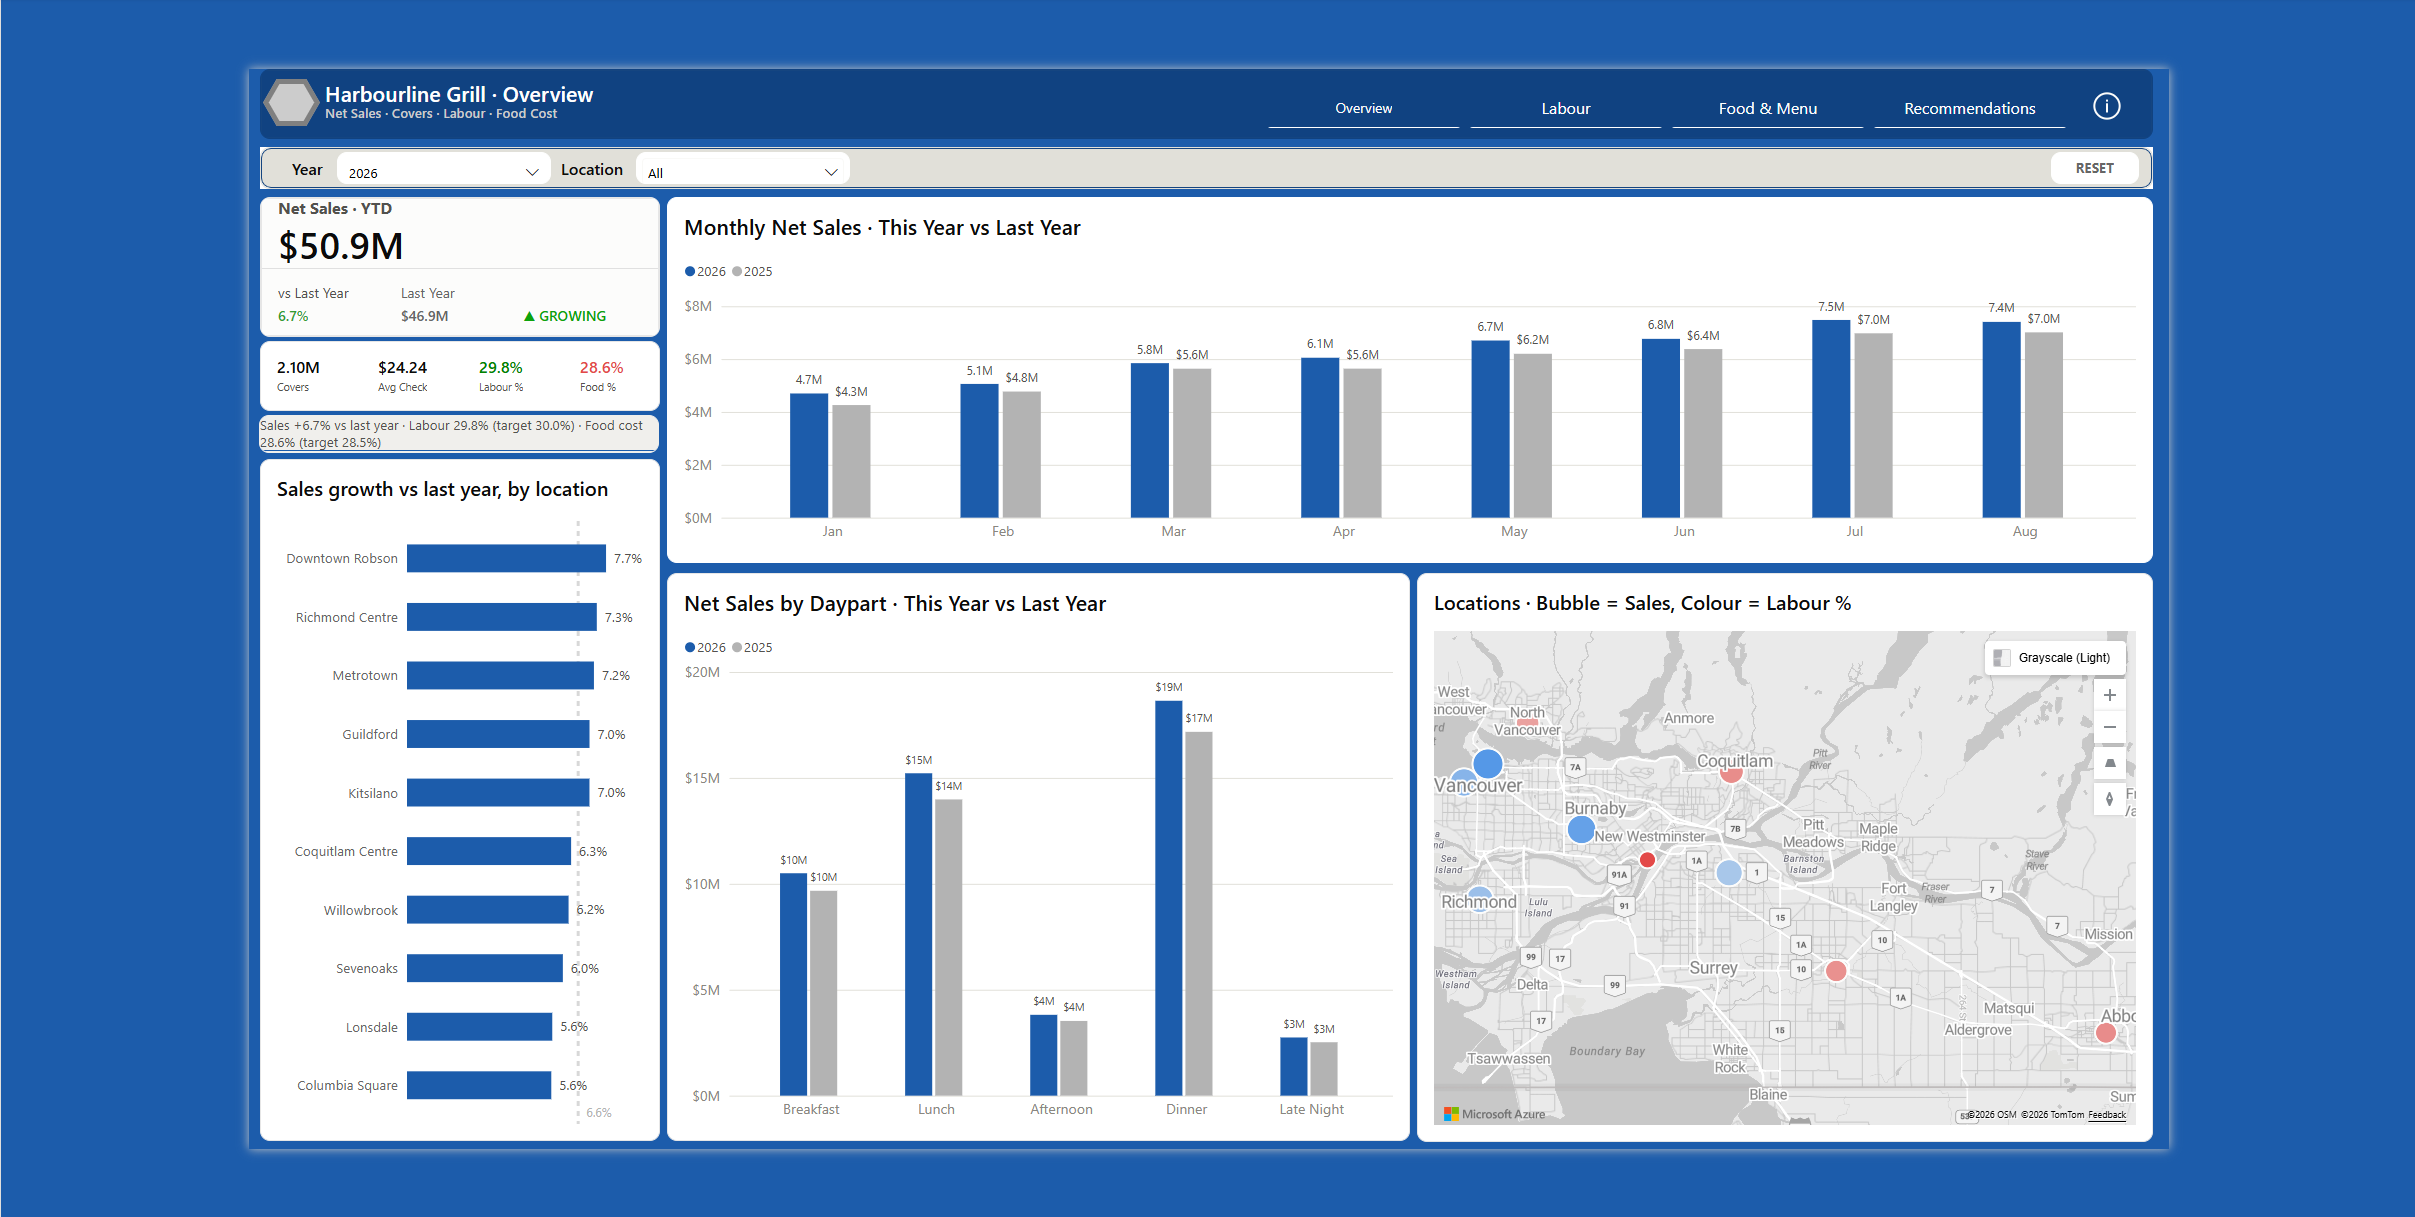

The dashboard page shown, as its layout file describes it:
{"tool":"powerbi","page":{"name":"Overview","canvas":[1920,1080],"ordinal":0},"visuals":[{"type":"shape","title":"Harbourline Grill · Overview","box":[10.8,0,1893.5,69.7],"z":0,"group":"g1"},{"type":"shape","box":[10.8,77.9,1892.9,42.2],"z":0,"group":"g2"},{"type":"cardVisual","fields":{"Data":["_Measures.Net Sales"]},"box":[10.8,128,400,140],"z":0},{"type":"textbox","title":"Harbourline Grill · Overview","box":[75.6,9.8,300.5,29.5],"z":1000,"group":"g1"},{"type":"textbox","title":"Year","box":[43.3,88.7,44.4,20.6],"z":1000,"group":"g2"},{"type":"cardVisual","fields":{"Data":["_Measures.Covers","_Measures.Avg Check","_Measures.Labour %","_Measures.Food Cost %"]},"box":[10.8,272,400,70],"z":1000},{"type":"textbox","title":"Net Sales · Covers · Labour · Food Cost","box":[75.6,35.4,300.5,29.5],"z":2000,"group":"g1"},{"type":"textbox","title":"Location","box":[311.7,88.7,64.9,20.6],"z":2000,"group":"g2"},{"type":"textbox","box":[9.8,345.5,400.5,38.3],"z":2000},{"type":"pageNavigator","box":[1017.4,18.7,800.4,40.3],"z":3000,"group":"g1"},{"type":"slicer","fields":{"Values":["DIM_DATE.YEAR"]},"box":[87.6,83.3,214.3,31.4],"z":3000,"group":"g2"},{"type":"clusteredBarChart","title":"Sales growth vs last year, by location","fields":{"Category":["DIM_LOCATION.LOCATION_NAME"],"Y":["_Measures.Net Sales YoY %"]},"box":[10.8,389.7,400.5,682.2],"z":3000},{"type":"actionButton","box":[1825.7,14.7,63.8,44.2],"z":4000,"group":"g1"},{"type":"slicer","fields":{"Values":["DIM_LOCATION.LOCATION_NAME"]},"box":[386.4,83.3,214,31.4],"z":4000,"group":"g2"},{"type":"clusteredColumnChart","title":"Monthly Net Sales · This Year vs Last Year","fields":{"Category":["DIM_DATE.MONTH_NAME"],"Y":["_Measures.Net Sales Comparable","_Measures.Net Sales LY"]},"box":[417.8,127.7,1486,365.8],"z":4000},{"type":"actionButton","box":[1801.9,83.1,88,31.3],"z":5000,"group":"g2"},{"type":"clusteredColumnChart","title":"Net Sales by Daypart · This Year vs Last Year","fields":{"Category":["FACT_SALES_ITEM_DAYPART.DAYPART_LABEL"],"Y":["_Measures.Net Sales","_Measures.Net Sales LY"]},"box":[418.4,503.8,742.5,568.6],"z":5000},{"type":"azureMap","title":"Locations · Bubble = Sales, Colour = Labour %","fields":{"Size":["_Measures.Net Sales"],"X":["DIM_LOCATION.LONGITUDE"],"Y":["DIM_LOCATION.LATITUDE"]},"box":[1167.8,504.4,736,568.2],"z":6000},{"type":"group","id":"g1","title":"Header","box":[10.8,0,1893.5,69.7],"z":7000},{"type":"shape","box":[14.5,9.6,56.6,47],"z":8000},{"type":"group","id":"g2","title":"Sub header","box":[10.8,77.9,1892.9,42.2],"z":9000}]}

Visuals, with their boxes on the page's 1920x1080 design canvas (x1, y1, x2, y2). These are canvas units, not pixel positions in the 2415x1217 screenshot, which may show the page scaled, cropped or inside an application window:
"Harbourline Grill · Overview" shape: {"left": 11, "top": 0, "right": 1904, "bottom": 70}
shape: {"left": 11, "top": 78, "right": 1904, "bottom": 120}
cardVisual - _Measures.Net Sales: {"left": 11, "top": 128, "right": 411, "bottom": 268}
"Harbourline Grill · Overview" textbox: {"left": 76, "top": 10, "right": 376, "bottom": 39}
"Year" textbox: {"left": 43, "top": 89, "right": 88, "bottom": 109}
cardVisual - _Measures.Covers x _Measures.Avg Check: {"left": 11, "top": 272, "right": 411, "bottom": 342}
"Net Sales · Covers · Labour · Food Cost" textbox: {"left": 76, "top": 35, "right": 376, "bottom": 65}
"Location" textbox: {"left": 312, "top": 89, "right": 377, "bottom": 109}
textbox: {"left": 10, "top": 346, "right": 410, "bottom": 384}
pageNavigator: {"left": 1017, "top": 19, "right": 1818, "bottom": 59}
slicer - DIM_DATE.YEAR: {"left": 88, "top": 83, "right": 302, "bottom": 115}
"Sales growth vs last year, by location" clusteredBarChart: {"left": 11, "top": 390, "right": 411, "bottom": 1072}
actionButton: {"left": 1826, "top": 15, "right": 1890, "bottom": 59}
slicer - DIM_LOCATION.LOCATION_NAME: {"left": 386, "top": 83, "right": 600, "bottom": 115}
"Monthly Net Sales · This Year vs Last Year" clusteredColumnChart: {"left": 418, "top": 128, "right": 1904, "bottom": 494}
actionButton: {"left": 1802, "top": 83, "right": 1890, "bottom": 114}
"Net Sales by Daypart · This Year vs Last Year" clusteredColumnChart: {"left": 418, "top": 504, "right": 1161, "bottom": 1072}
"Locations · Bubble = Sales, Colour = Labour %" azureMap: {"left": 1168, "top": 504, "right": 1904, "bottom": 1073}
"Header" group: {"left": 11, "top": 0, "right": 1904, "bottom": 70}
shape: {"left": 14, "top": 10, "right": 71, "bottom": 57}
"Sub header" group: {"left": 11, "top": 78, "right": 1904, "bottom": 120}
